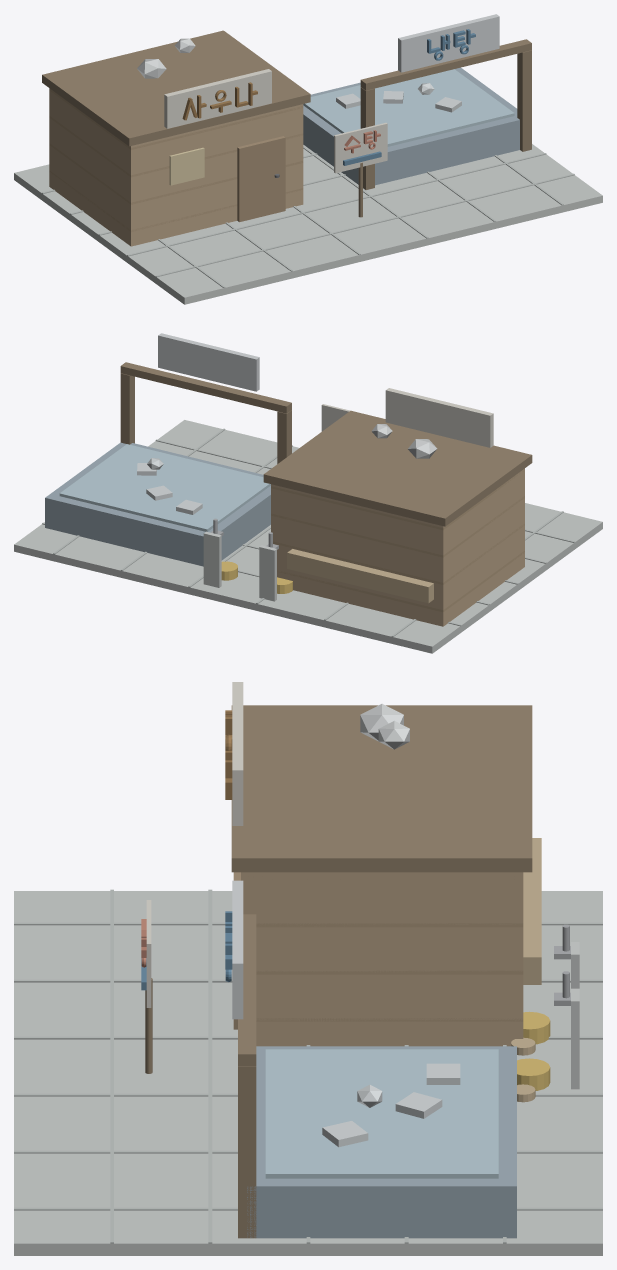
Rendered from sauna.glb.
The picture shows the model from 3 angles, top to bottom: view 1: azimuth 30°, elevation 25°; view 2: azimuth 150°, elevation 25°; view 3: azimuth 270°, elevation 25°; orthographic projection. The views are drawn at different scales.
Parts seen in each view (by area): view 1: part_14, part_11, part_02, part_09, part_04, part_21, part_12, part_05, part_16, part_08, part_20, part_17 (+3 smaller); view 2: part_14, part_11, part_02, part_09, part_04, part_21, part_16, part_13, part_08, part_15, part_12, part_17 (+2 smaller); view 3: part_14, part_02, part_11, part_09, part_04, part_12, part_08, part_13, part_17, part_21, part_19, part_16 (+3 smaller).
Part boxes in pixels (x1=…): part_14: x1=14, y1=144, x2=602, y2=304; part_11: x1=49, y1=90, x2=303, y2=246; part_02: x1=42, y1=30, x2=531, y2=217; part_09: x1=303, y1=69, x2=514, y2=146; part_04: x1=303, y1=67, x2=519, y2=185; part_21: x1=164, y1=69, x2=387, y2=173; part_12: x1=42, y1=146, x2=574, y2=288; part_05: x1=237, y1=136, x2=285, y2=222; part_16: x1=398, y1=14, x2=499, y2=72; part_08: x1=49, y1=88, x2=303, y2=232; part_20: x1=169, y1=147, x2=204, y2=185; part_17: x1=336, y1=83, x2=461, y2=112; part_14: x1=14, y1=420, x2=602, y2=653; part_11: x1=271, y1=468, x2=524, y2=626; part_02: x1=120, y1=362, x2=532, y2=526; part_09: x1=59, y1=444, x2=270, y2=531; part_04: x1=45, y1=442, x2=270, y2=566; part_21: x1=321, y1=388, x2=493, y2=447; part_16: x1=158, y1=333, x2=259, y2=391; part_13: x1=287, y1=549, x2=433, y2=603; part_08: x1=271, y1=469, x2=524, y2=612; part_15: x1=203, y1=531, x2=276, y2=601; part_12: x1=42, y1=428, x2=574, y2=636; part_17: x1=137, y1=458, x2=202, y2=514; part_14: x1=14, y1=891, x2=602, y2=1255; part_02: x1=145, y1=705, x2=532, y2=1238; part_11: x1=241, y1=872, x2=523, y2=1046; part_09: x1=265, y1=1049, x2=498, y2=1178; part_04: x1=247, y1=1046, x2=516, y2=1238; part_12: x1=14, y1=889, x2=602, y2=1243; part_08: x1=256, y1=923, x2=523, y2=1021; part_13: x1=511, y1=838, x2=541, y2=1102; part_17: x1=322, y1=1063, x2=460, y2=1147; part_21: x1=146, y1=682, x2=243, y2=1007; part_19: x1=517, y1=1011, x2=550, y2=1090; part_16: x1=232, y1=880, x2=243, y2=1019.
Bounding box in the file's own units: 13.6 × 4.89 × 9.6.
